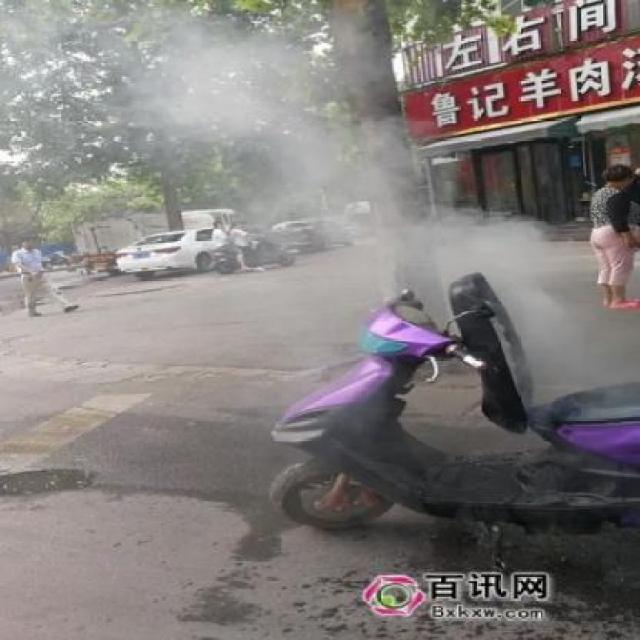Smoke: (318, 140, 500, 323), (476, 219, 602, 395)
